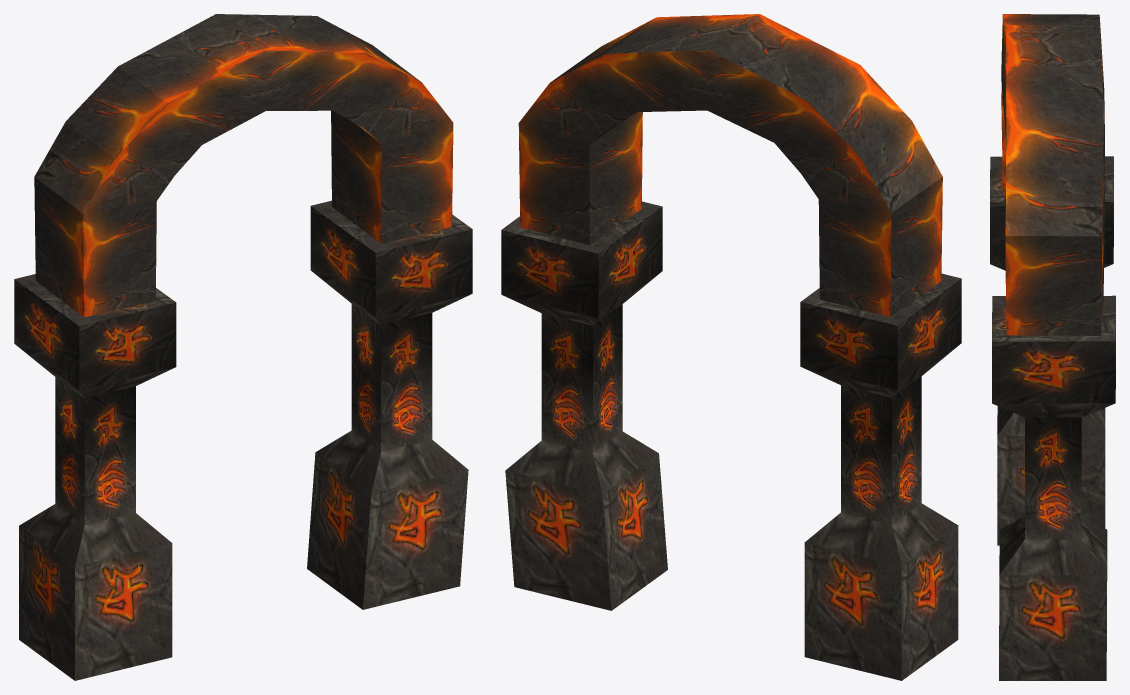
The model's file is gate_04.FBX.
3 views of the same model, side by side, from view 1: azimuth 30°, elevation 25°; view 2: azimuth 150°, elevation 25°; view 3: azimuth 270°, elevation 25° (orthographic). The views are drawn at different scales.
Parts seen in each view (by area): view 1: gate_04; view 2: gate_04; view 3: gate_04.
Boxes of the visible parts, x1,y1,x2,y2 form: gate_04: [14, 14, 472, 680]; gate_04: [501, 14, 961, 680]; gate_04: [990, 14, 1115, 680].
Bounding box in the file's own units: 3.92 × 5.5 × 1.13.
